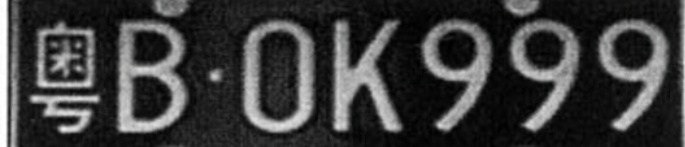B: (117, 21, 187, 133)
